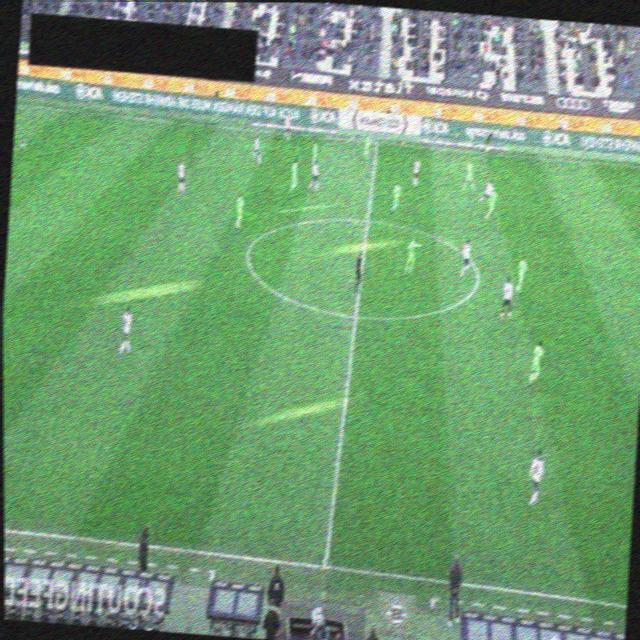bigarea_top_inner: (12, 136, 27, 148)
halfcircle_bottom: (348, 310, 362, 323)
halfcircle_top: (359, 214, 373, 227)
midline_bottom_intersection: (316, 557, 332, 573)
midline_top_intersection: (369, 136, 384, 149)
